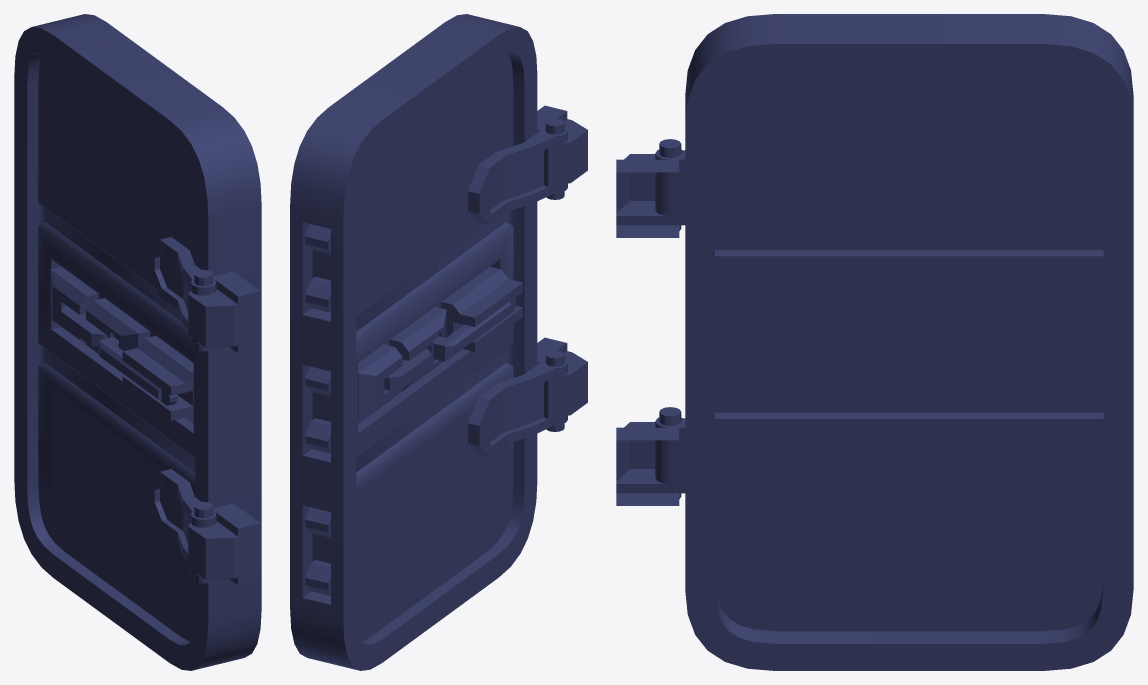
Rendered from Door_A.FBX.
The picture shows the model from 3 angles, left to right: view 1: azimuth 30°, elevation 25°; view 2: azimuth 150°, elevation 25°; view 3: azimuth 270°, elevation 25°; orthographic projection. The views are drawn at different scales.
Visible parts, largest first — view 1: Door_A_Door, Door_A_Base; view 2: Door_A_Door, Door_A_Base; view 3: Door_A_Door, Door_A_Base.
Part boxes in pixels (<box>): Door_A_Door: <box>14,14,261,670</box>; Door_A_Base: <box>188,271,260,585</box>; Door_A_Door: <box>290,14,567,670</box>; Door_A_Base: <box>537,105,587,416</box>; Door_A_Door: <box>655,14,1133,670</box>; Door_A_Base: <box>616,154,679,505</box>.
Bounding box in the file's own units: 35.67 × 231 × 173.
